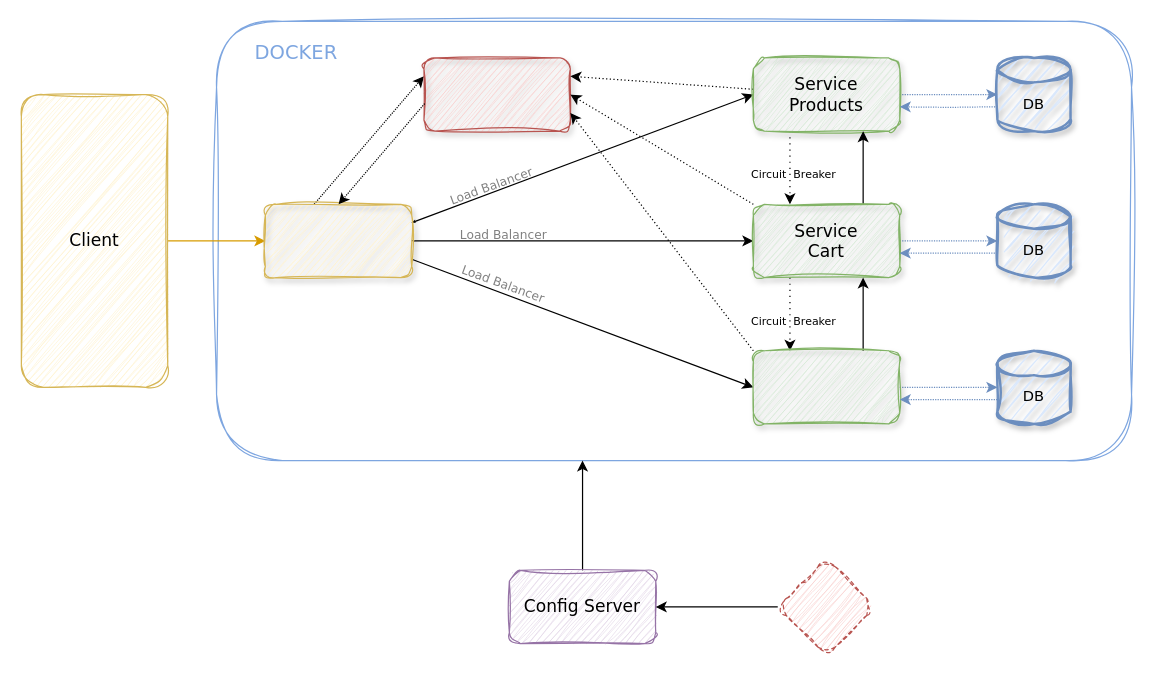
The diagram is 1153 pixels wide and 677 high, and some of its shapes have lost their labels. Here are the shapes that lost their labels. From the top down, the centre of each, then its label:
At [498,96]: "Eureka Server (Service discovery y registry)".
At [339,242]: "API GATEWAY".
At [827,388]: "Service Sales".
At [826,606]: "GIT".
